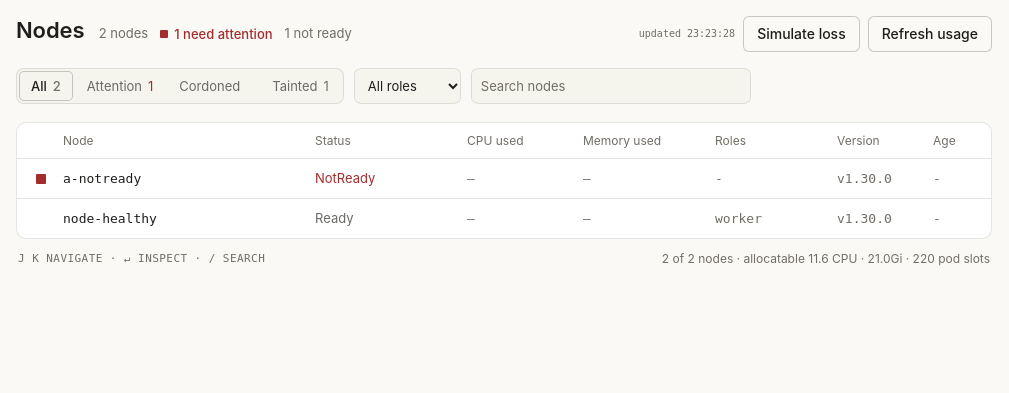
Test case: NodesView › survivability: targets derive from loaded nodes and the verdict renders
Step 1. Click the button "Simulate loss" → (801, 34), box [743,16,860,52]
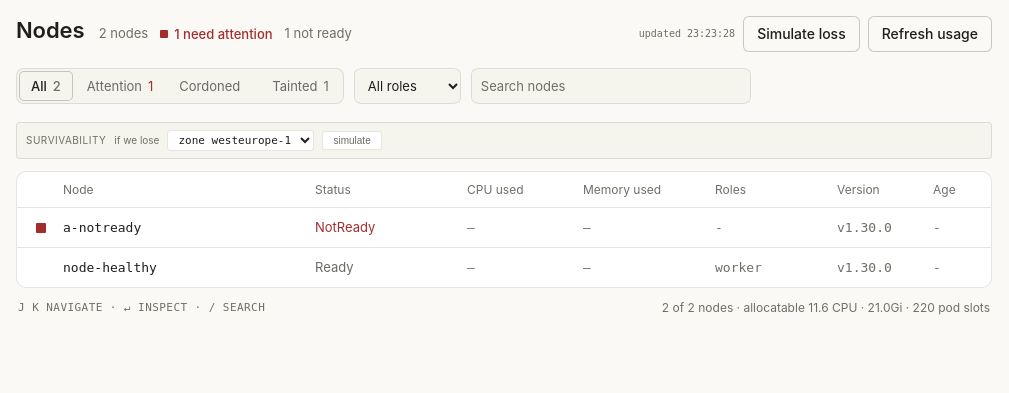
Step 2. Click the button "simulate" → (352, 140), box [322,131,382,150]
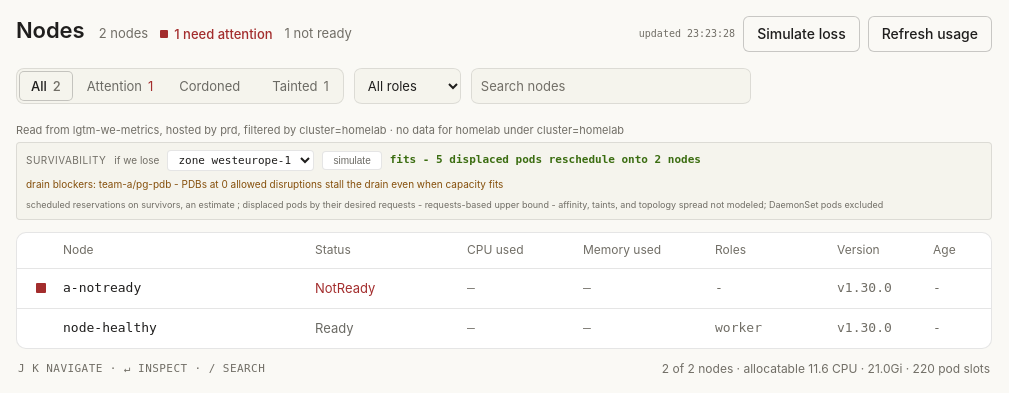
expect the text with test id "survivability-verdict" reads "fits - 5 displaced pods reschedule onto 2 nodes": met, box [390,153,701,166]
expect the text "drain blockers: team-a/pg-pdb" is shown: met, box [26,178,503,190]
expect the text "requests-based upper bound" is shown: met, box [237,199,883,210]
